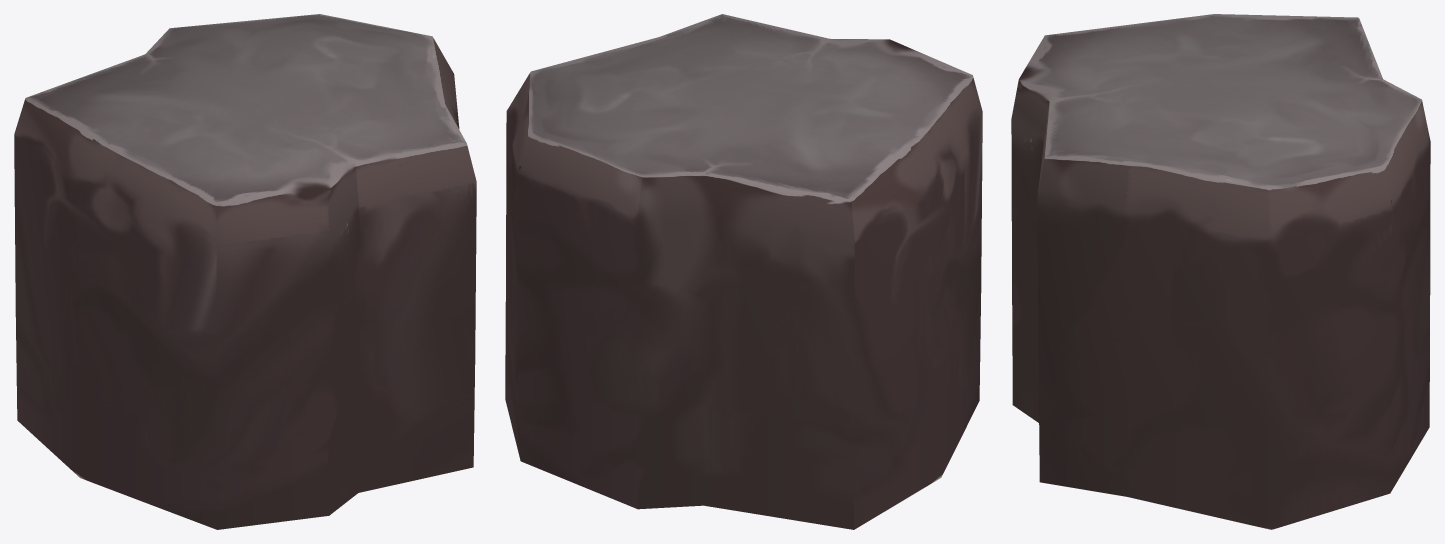
The model's file is rock_1.gltf.
The picture shows the model from 3 angles, left to right: view 1: azimuth 30°, elevation 25°; view 2: azimuth 150°, elevation 25°; view 3: azimuth 270°, elevation 25°; orthographic projection.
Visible parts, largest first — view 1: Rock1; view 2: Rock1; view 3: Rock1.
Boxes of the visible parts, x1,y1,x2,y2 form: Rock1: (14,14,476,529); Rock1: (505,14,982,529); Rock1: (1011,14,1430,529).
Size of what is drawn, in the model's own units: 1.25 by 0.9975 by 1.13.
1 material, 1 textured.
